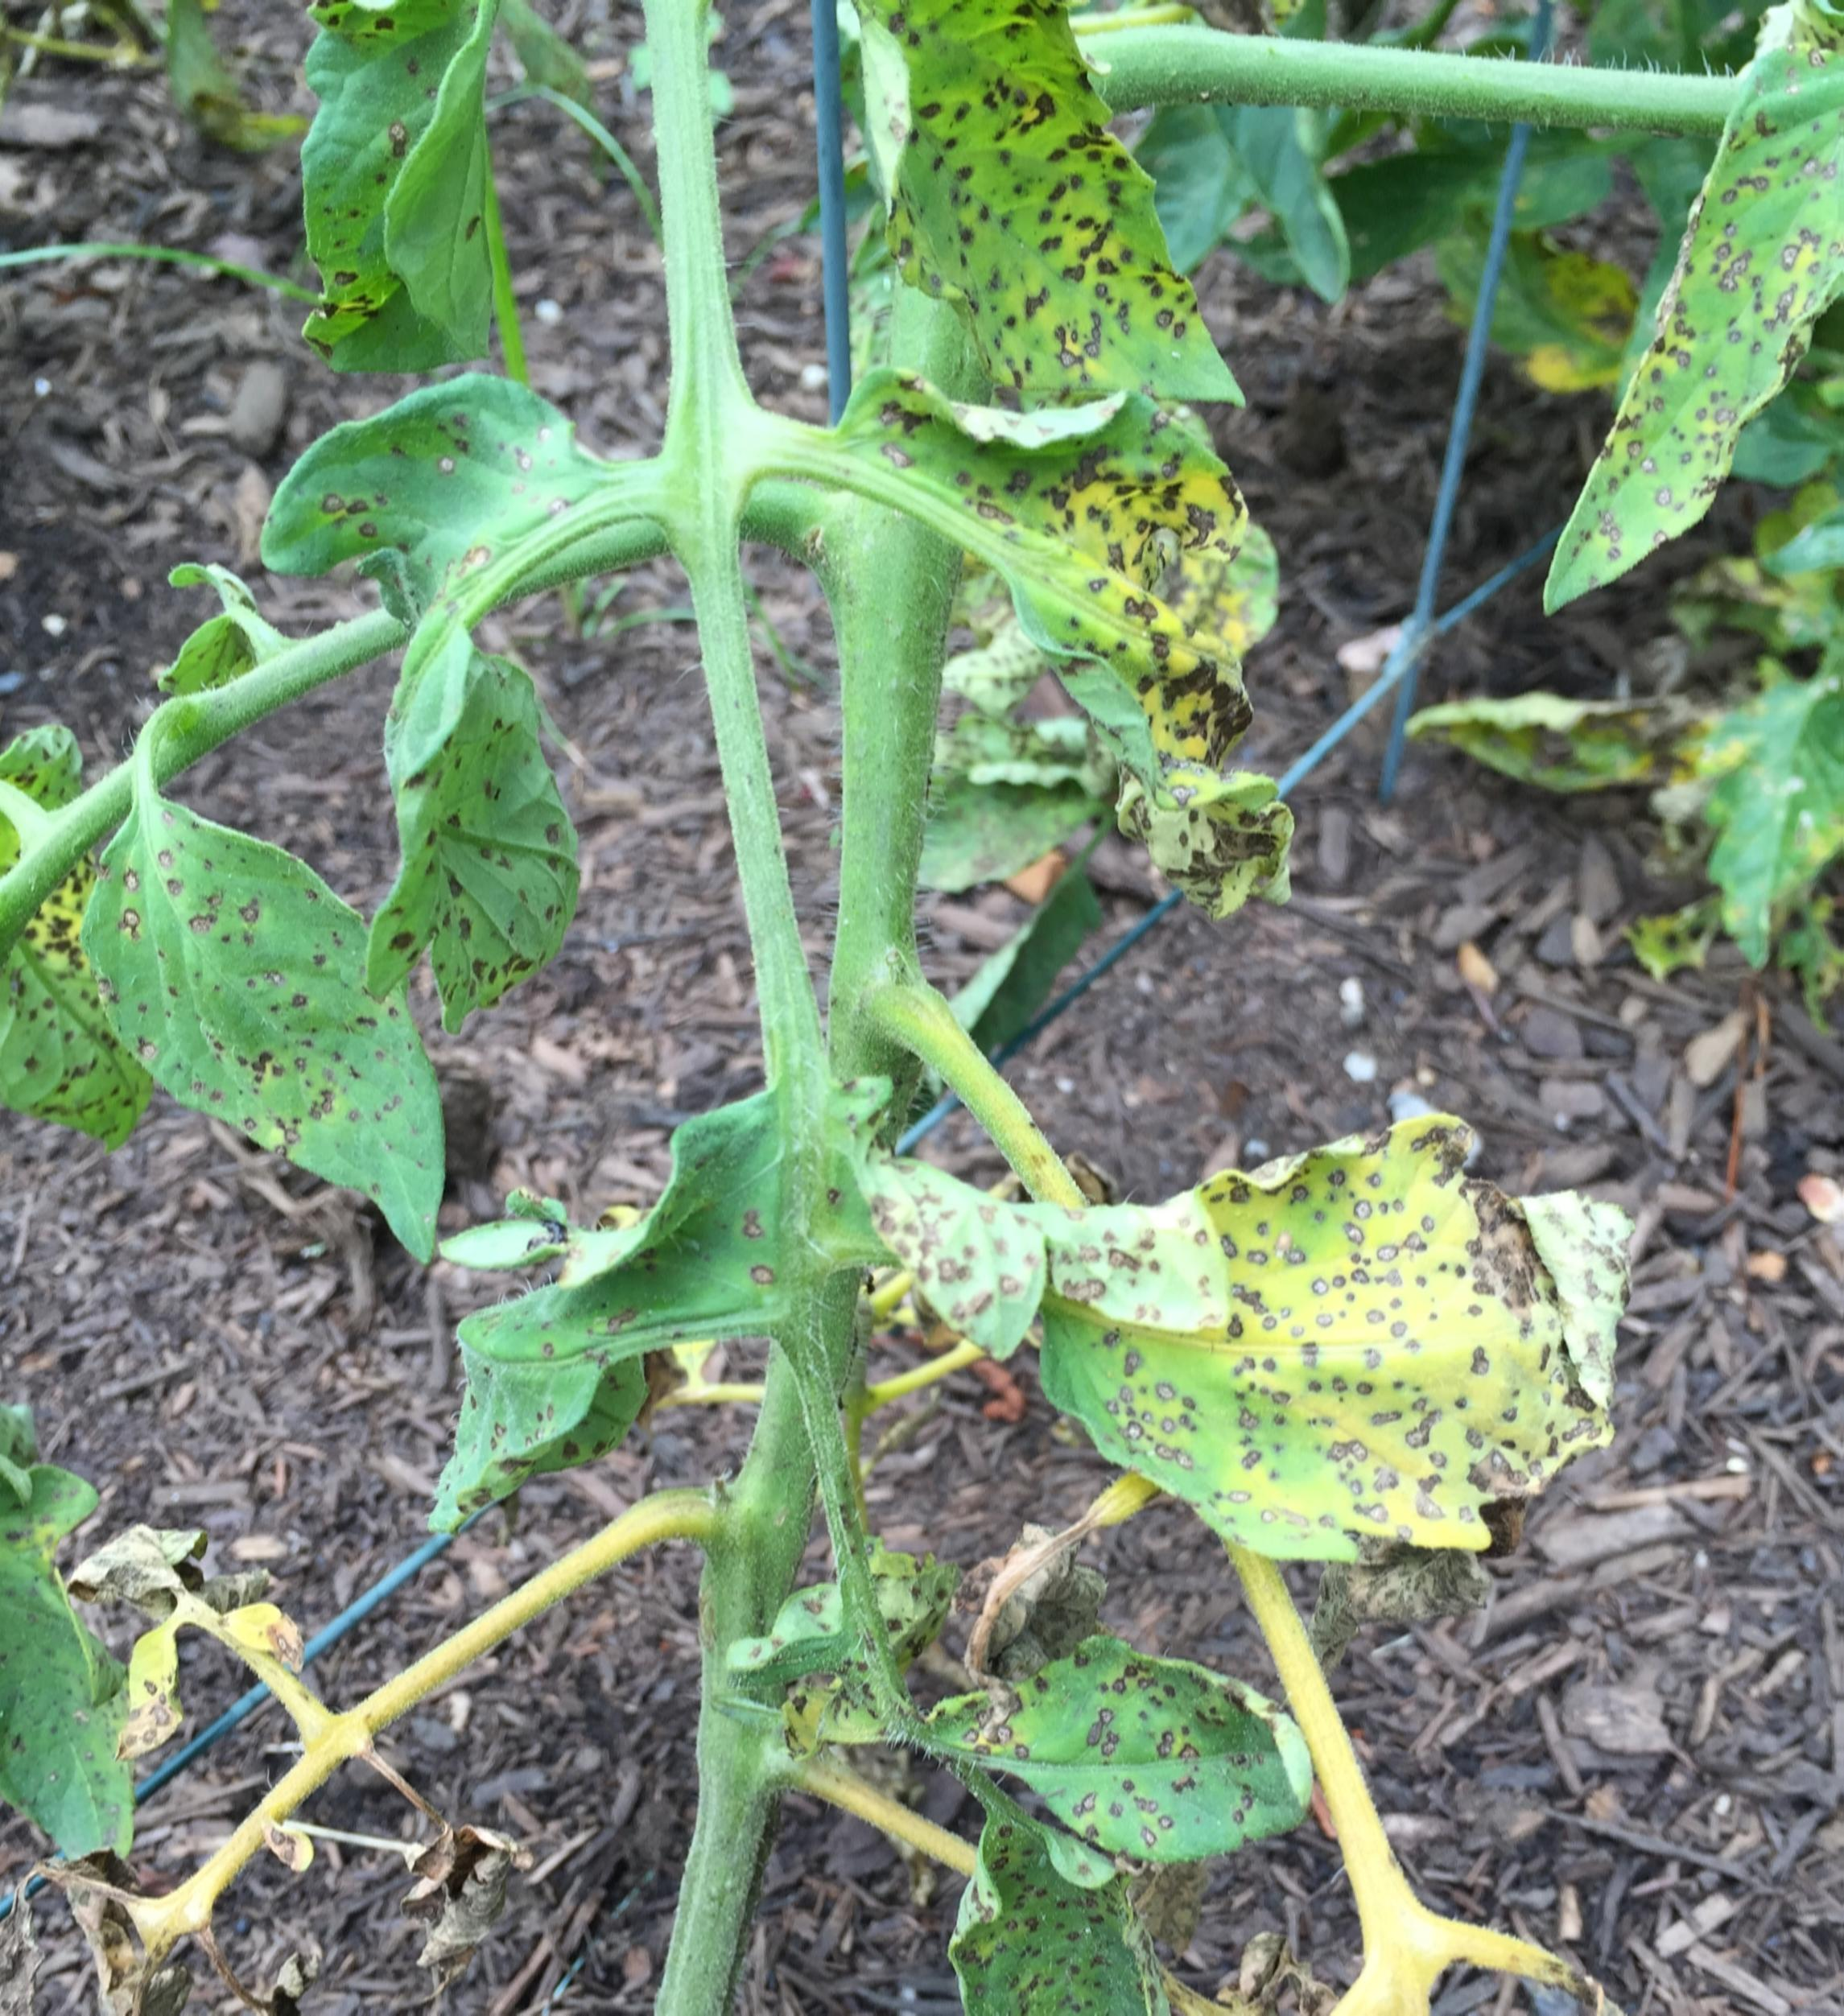Tomato Septoria leaf spot: (782, 1119, 1754, 1591), (811, 386, 1312, 927), (741, 0, 1266, 418), (49, 792, 485, 1287), (437, 1071, 815, 1551), (1537, 30, 1844, 609), (927, 1628, 1387, 1881), (346, 606, 609, 1027), (857, 1805, 1187, 2016)
